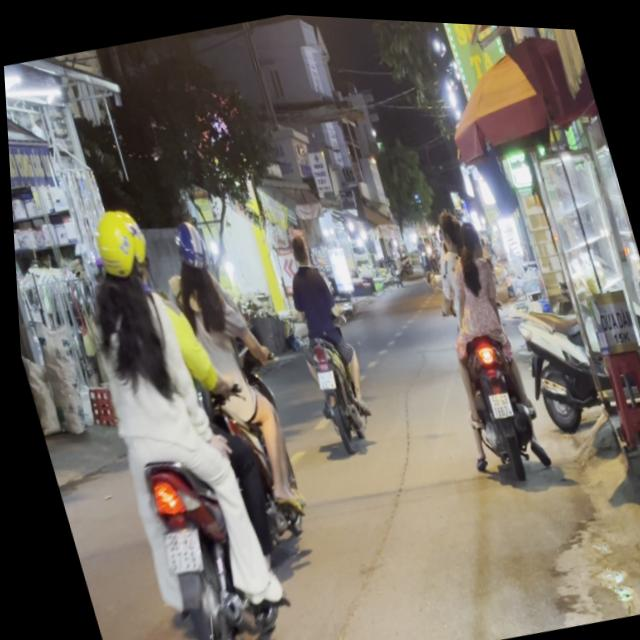helmet: (79, 199, 154, 296), (164, 214, 207, 274)
licenseplate: (37, 182, 304, 640), (144, 200, 321, 573), (400, 189, 550, 485), (263, 216, 376, 453)
motorcyclist: (430, 202, 464, 251), (451, 209, 482, 255), (280, 223, 308, 263)
nohelmet: (151, 524, 197, 572), (483, 385, 509, 414), (310, 364, 331, 386)
